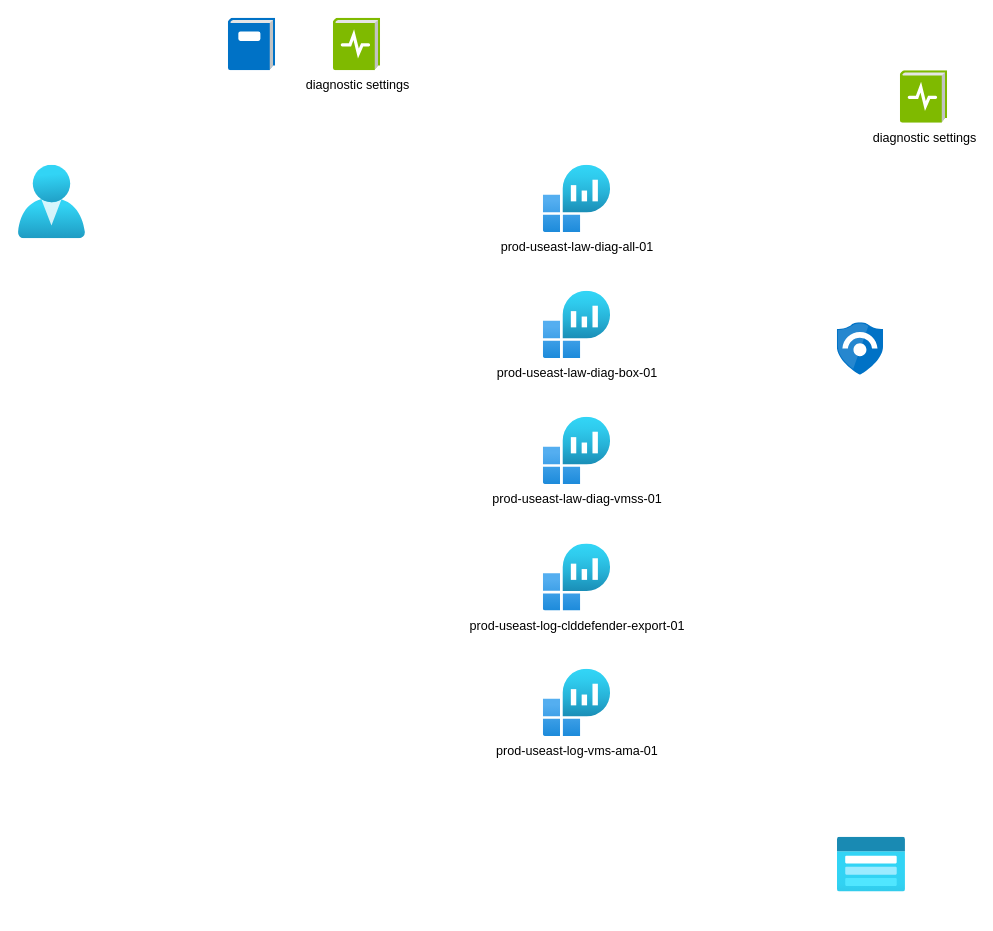
This 993x931 diagram has some shape labels left out. The centre of each missing label's shape, as x and y in pixels:
activity log: (x=251, y=44)
produseastlogbackups01: (x=871, y=864)
Sentinel: (x=860, y=348)
Users: (x=51, y=201)
